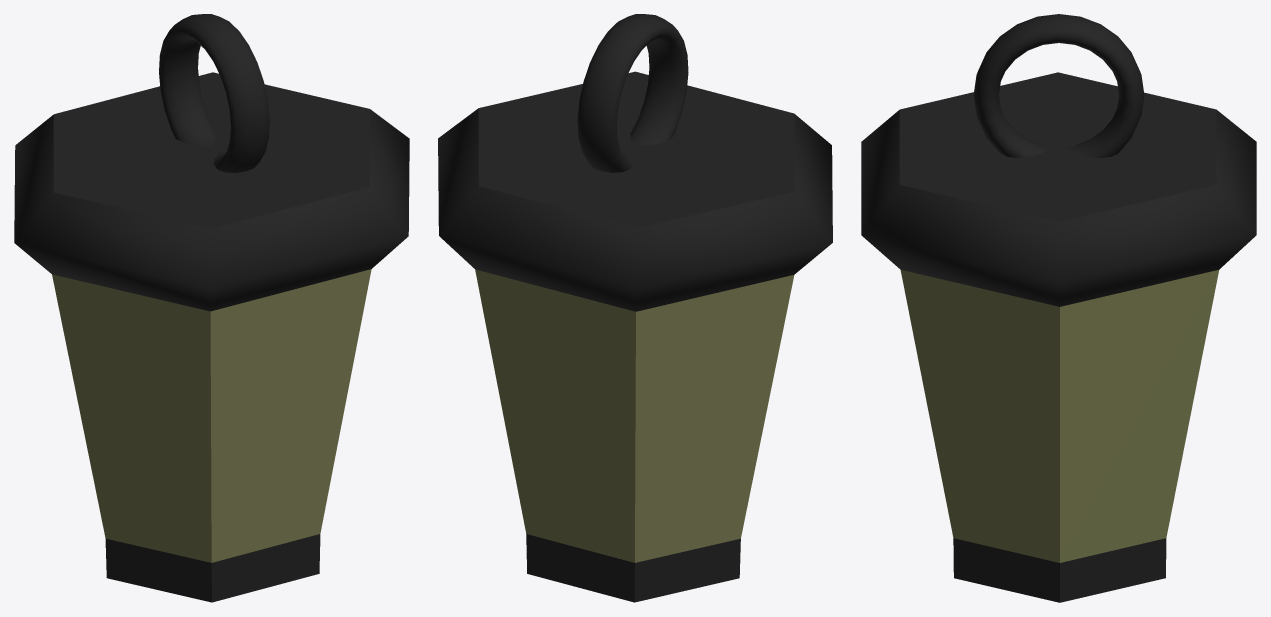
File: Metal Lantern shelled.fbx
The picture shows the model from 3 angles, left to right: view 1: azimuth 30°, elevation 25°; view 2: azimuth 150°, elevation 25°; view 3: azimuth 270°, elevation 25°; orthographic projection.
Visible parts, largest first — view 1: Torus001; view 2: Torus001; view 3: Torus001.
Part boxes in pixels (x1,y1,x2,y2): Torus001: [14, 14, 409, 602]; Torus001: [438, 14, 832, 602]; Torus001: [861, 14, 1256, 602].
Size of the model in its own units: 73.47 by 94.88 by 62.9.
